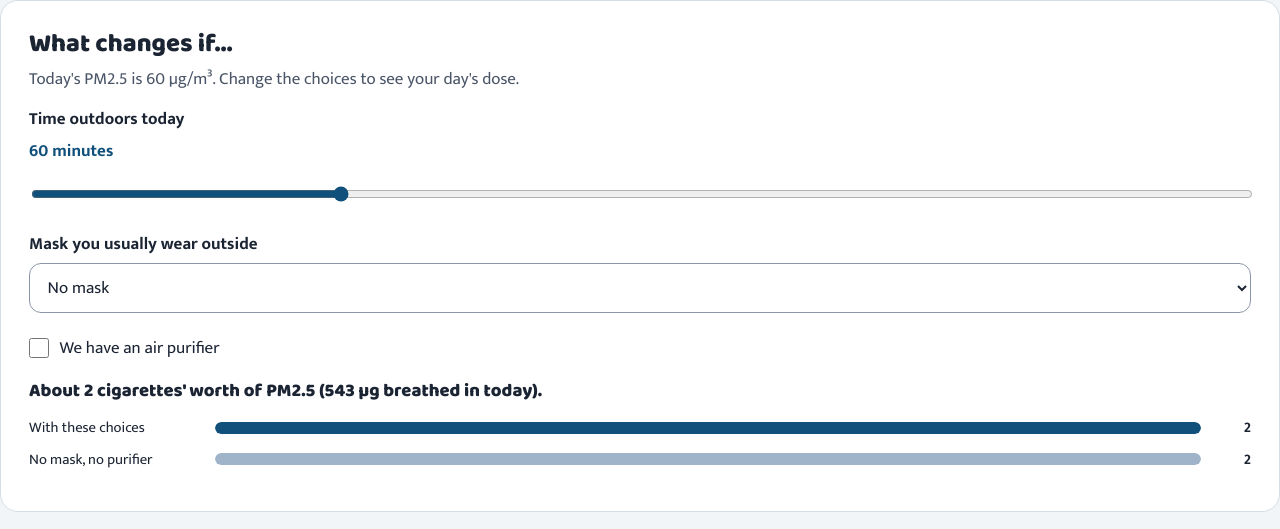
ChoicesPanel › starts at an hour outdoors when the household has no outdoor time, and follows the slider
The width and height of the screenshot is (1280, 529).
Step 1. Set the slider labelled "Time outdoors today" to "180" → [944, 194], box [31,172,1253,216]
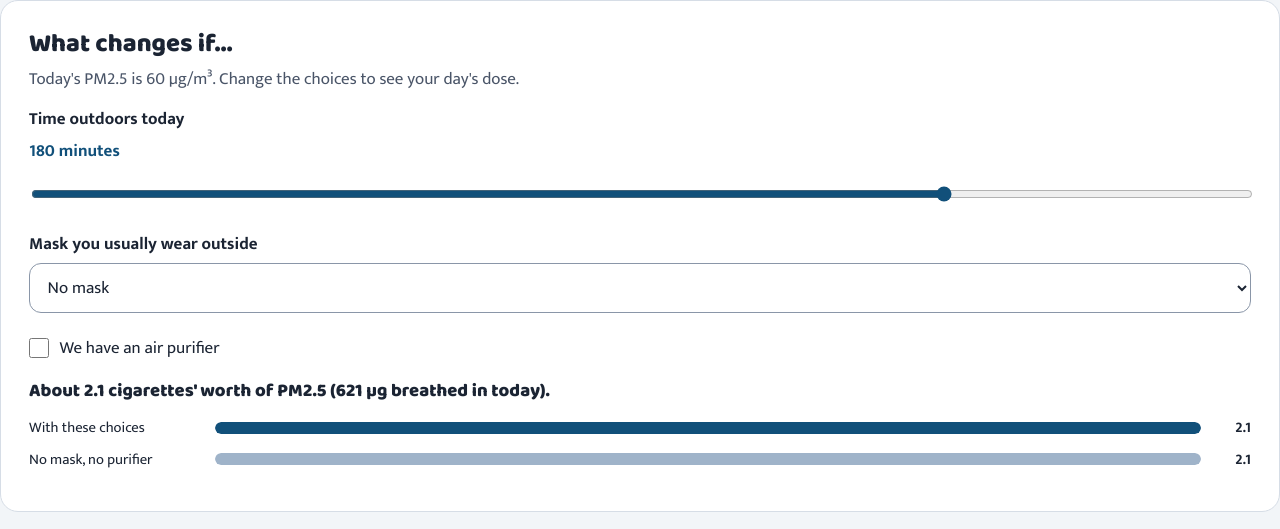
Check: the text with class "range-value" reads "180 minutes", box [29,137,120,165]
